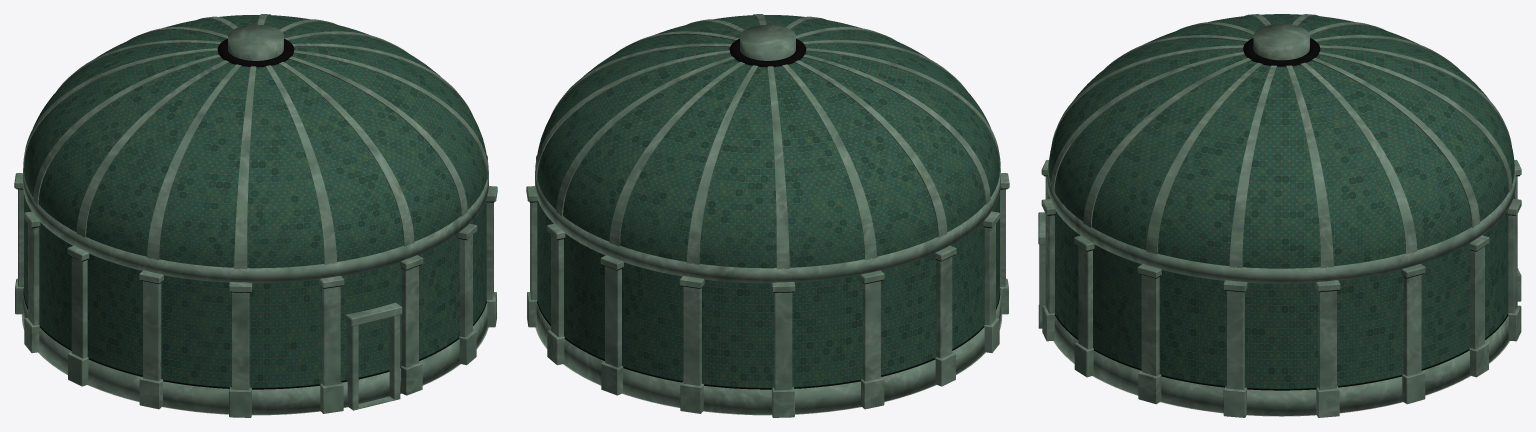
Rendered from emerald_throne_room.gltf.
3 renders of one model, left to right at view 1: azimuth 30°, elevation 25°; view 2: azimuth 150°, elevation 25°; view 3: azimuth 270°, elevation 25°, orthographic.
Visible parts, largest first — view 1: MESH_EmeraldDome, MESH_GreenMarble, MESH_EmeraldWallNear, MESH_EmeraldWall, MESH_Gold, MESH_EmeraldFloor; view 2: MESH_EmeraldDome, MESH_GreenMarble, MESH_EmeraldWall, MESH_Gold, MESH_EmeraldFloor; view 3: MESH_EmeraldDome, MESH_GreenMarble, MESH_EmeraldWall, MESH_EmeraldWallNear, MESH_Gold, MESH_EmeraldFloor.
Part boxes in pixels (<box>): MESH_EmeraldDome: <box>24,15,487,268</box>; MESH_GreenMarble: <box>14,14,497,417</box>; MESH_EmeraldWallNear: <box>161,200,486,387</box>; MESH_EmeraldWall: <box>24,194,142,375</box>; MESH_Gold: <box>16,38,494,389</box>; MESH_EmeraldFloor: <box>21,314,488,415</box>; MESH_EmeraldDome: <box>536,15,999,268</box>; MESH_GreenMarble: <box>526,14,1009,417</box>; MESH_EmeraldWall: <box>537,194,999,387</box>; MESH_Gold: <box>529,38,1007,389</box>; MESH_EmeraldFloor: <box>535,314,1002,415</box>; MESH_EmeraldDome: <box>1048,14,1514,268</box>; MESH_GreenMarble: <box>1038,14,1521,417</box>; MESH_EmeraldWall: <box>1159,194,1514,388</box>; MESH_EmeraldWallNear: <box>1048,195,1141,368</box>; MESH_Gold: <box>1043,38,1519,390</box>; MESH_EmeraldFloor: <box>1053,340,1509,416</box>.
Size of the model in its own units: 10.71 by 7.1 by 10.78.
12 materials, 12 textured.
